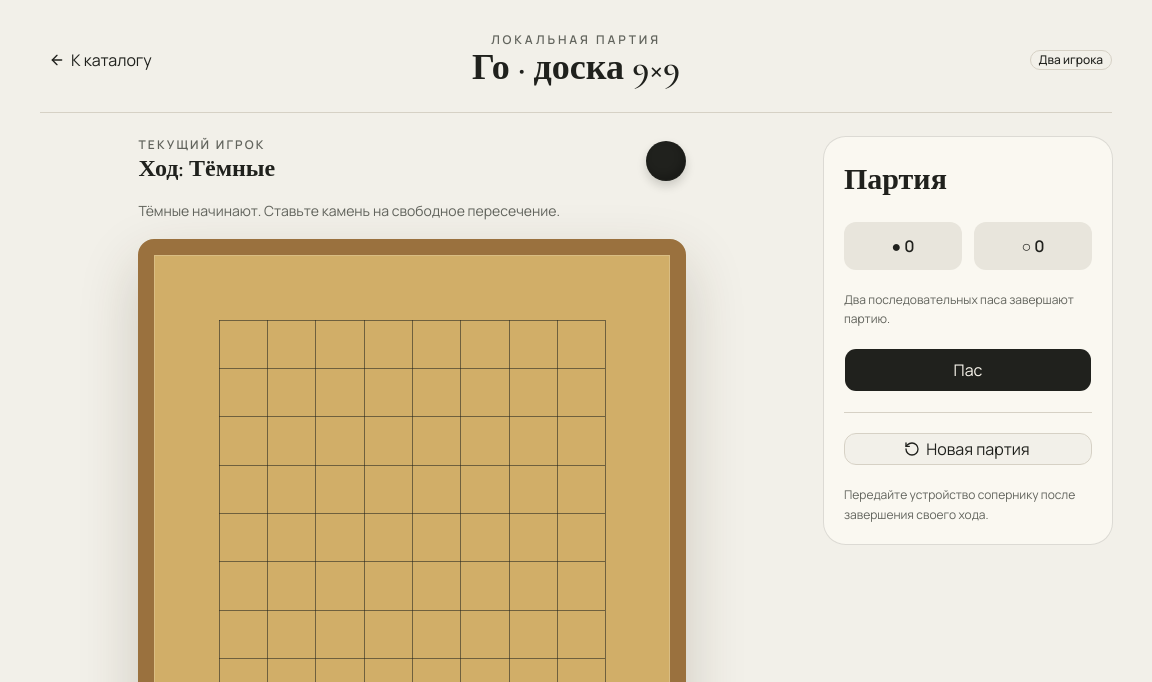
Test: HotSeatGame result integration › does not count an invalid occupied-point action
Click the cell named "Пересечение 1:1": (219, 320) x1=195 y1=296 x2=243 y2=344
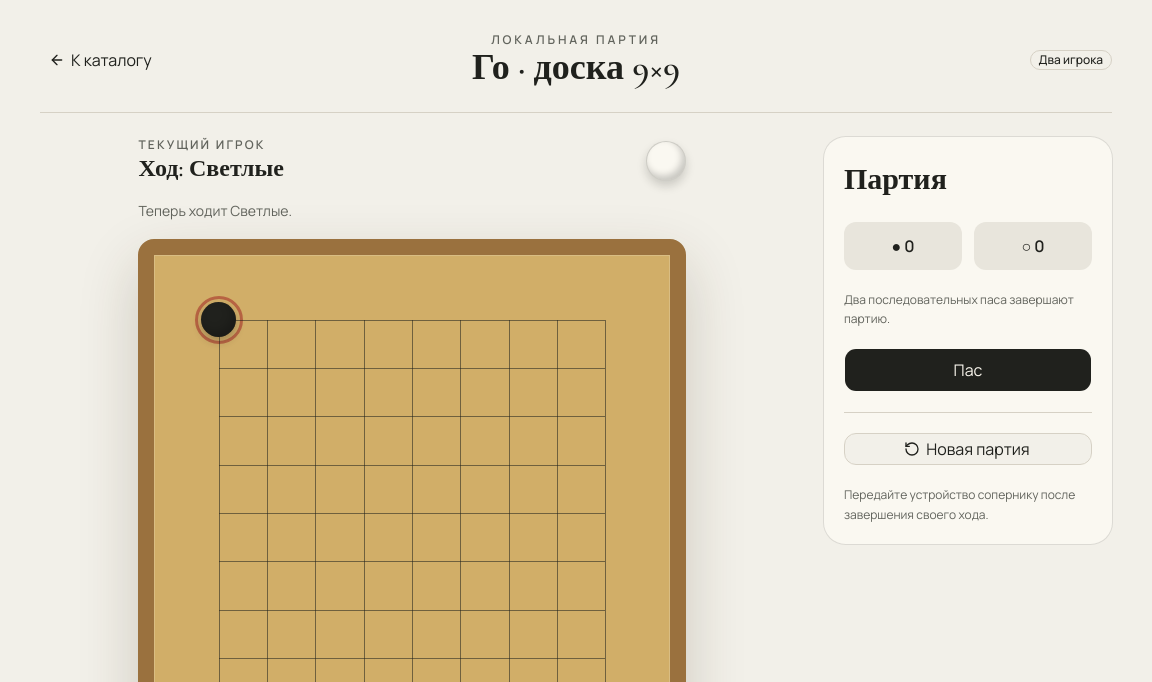
Click the cell named "Пересечение 1:1": (219, 320) x1=195 y1=296 x2=243 y2=344
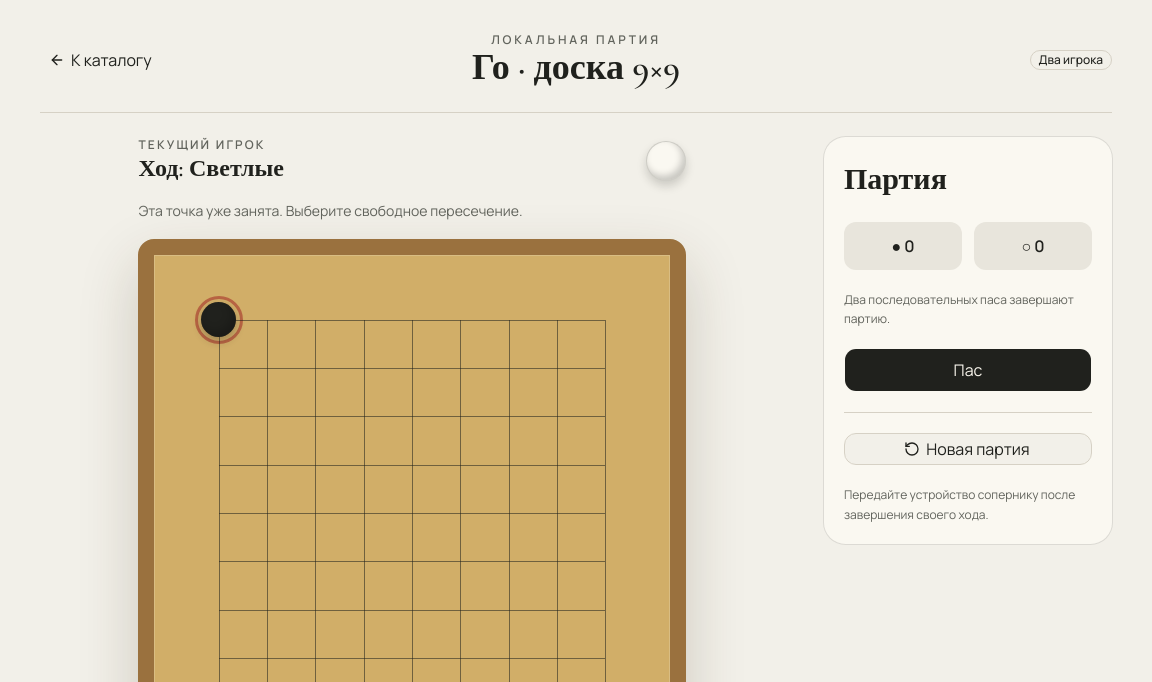
Result: the message shows "Эта точка уже занята" at x1=138 y1=201 x2=522 y2=220
Click the button "Пас": (968, 370) x1=844 y1=348 x2=1092 y2=392
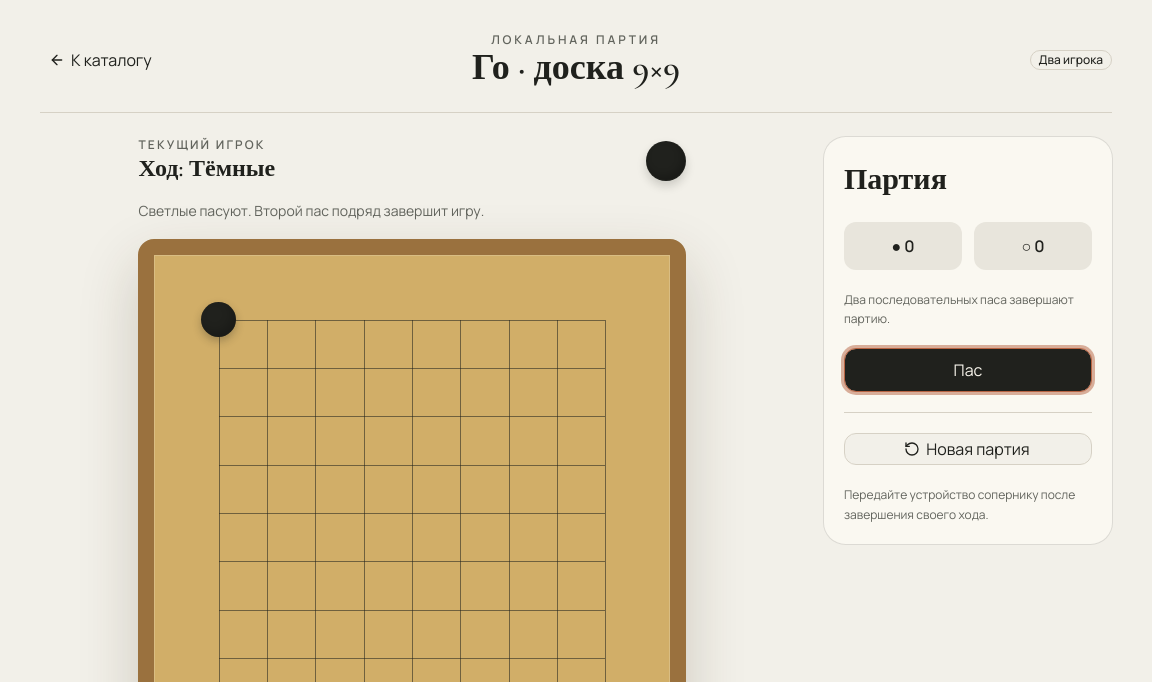
Click the button "Пас": (968, 370) x1=844 y1=348 x2=1092 y2=392
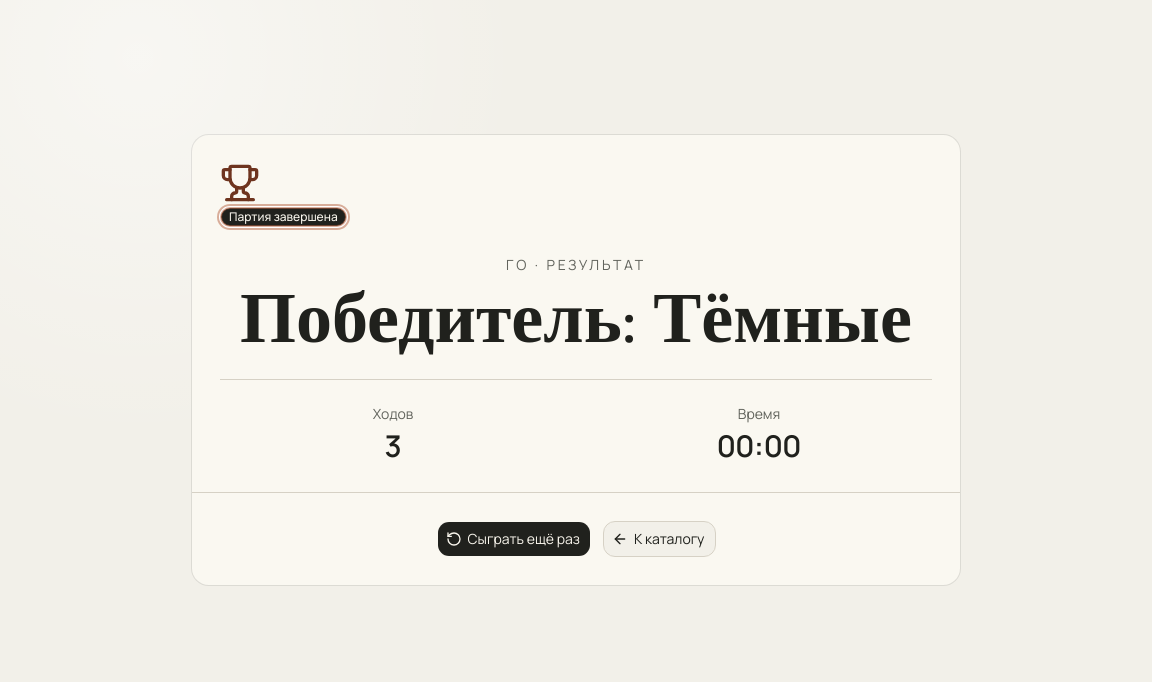
Result: the heading "Победитель: Тёмные" is shown at x1=220 y1=283 x2=932 y2=355
Result: the text "3" is shown at x1=384 y1=425 x2=402 y2=466
